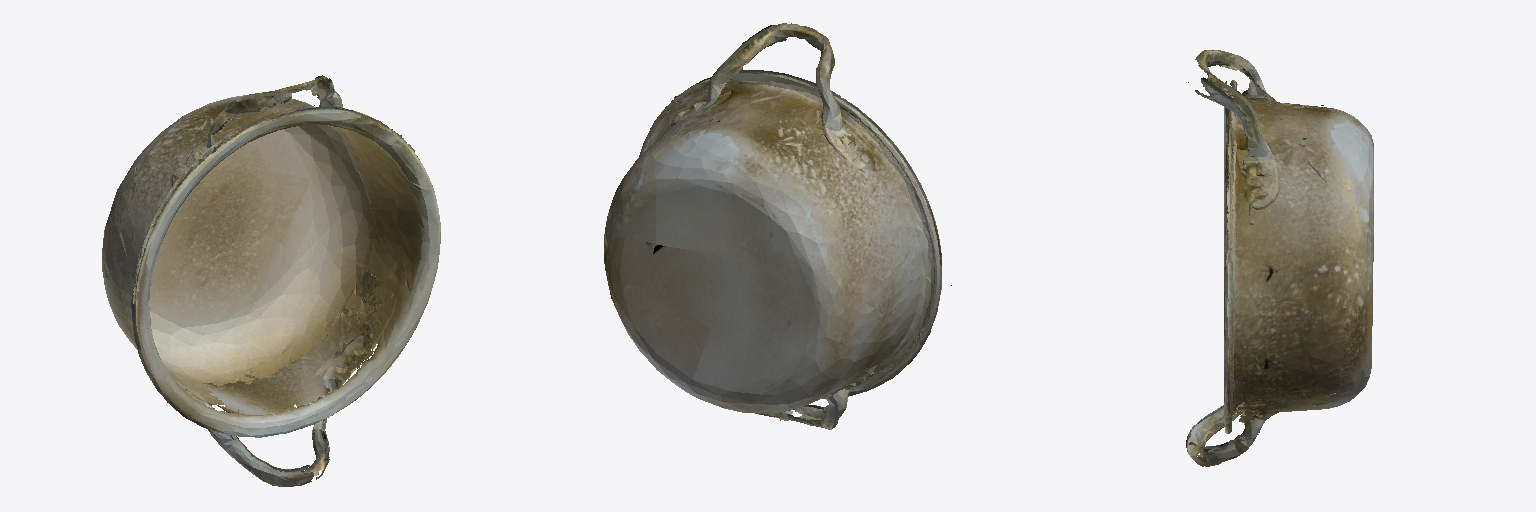
The picture shows the model from 3 angles: view 1: azimuth 30°, elevation 25°; view 2: azimuth 150°, elevation 25°; view 3: azimuth 270°, elevation 25°; orthographic projection.
Bounding box in the file's own units: 210 × 252 × 108.
1 materials, 1 textured.